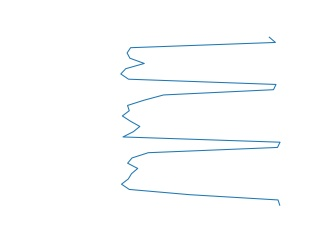majorRiverChannelBar: (120, 37, 285, 207)
